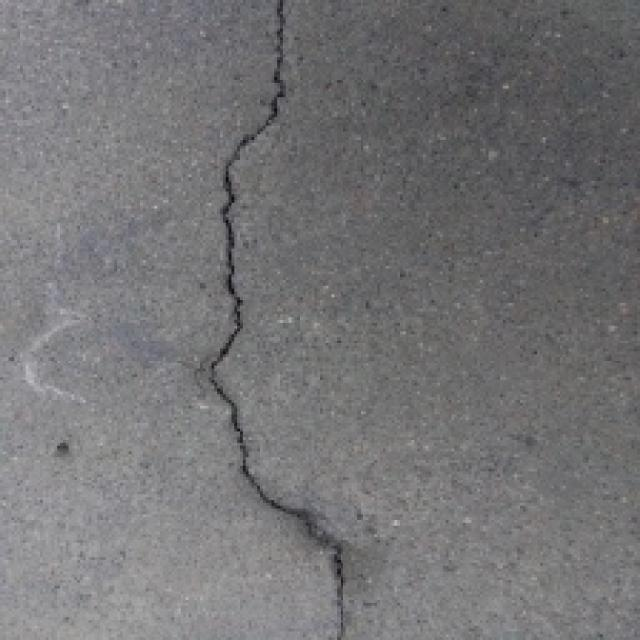crack: (196, 0, 360, 640)
